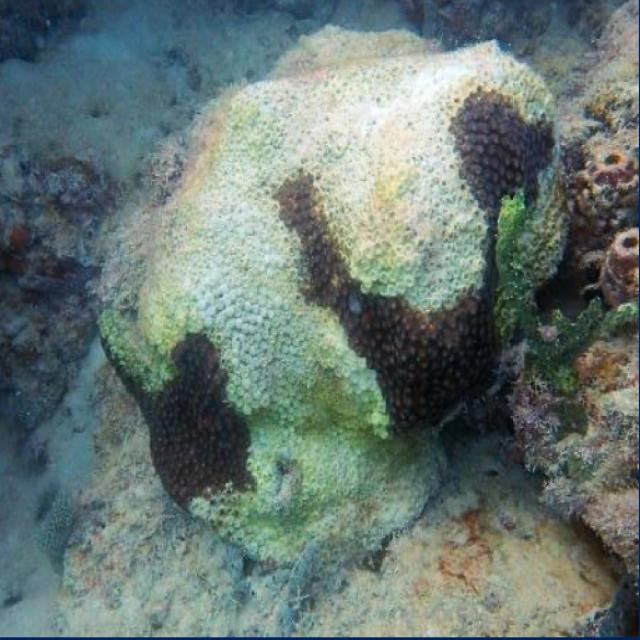Coral: (96, 23, 572, 566)
